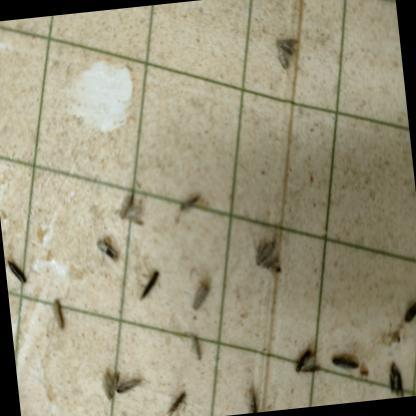prays_oleae: (243, 235, 290, 288), (112, 185, 152, 237), (288, 338, 326, 386), (179, 263, 218, 309), (183, 326, 212, 384), (39, 288, 77, 331), (158, 383, 206, 416), (268, 30, 304, 74), (328, 340, 364, 384), (3, 246, 31, 294), (128, 270, 165, 304), (381, 352, 408, 398), (95, 359, 118, 405), (114, 370, 148, 399), (176, 178, 202, 214), (231, 388, 266, 414), (90, 233, 118, 262), (397, 288, 416, 328)
